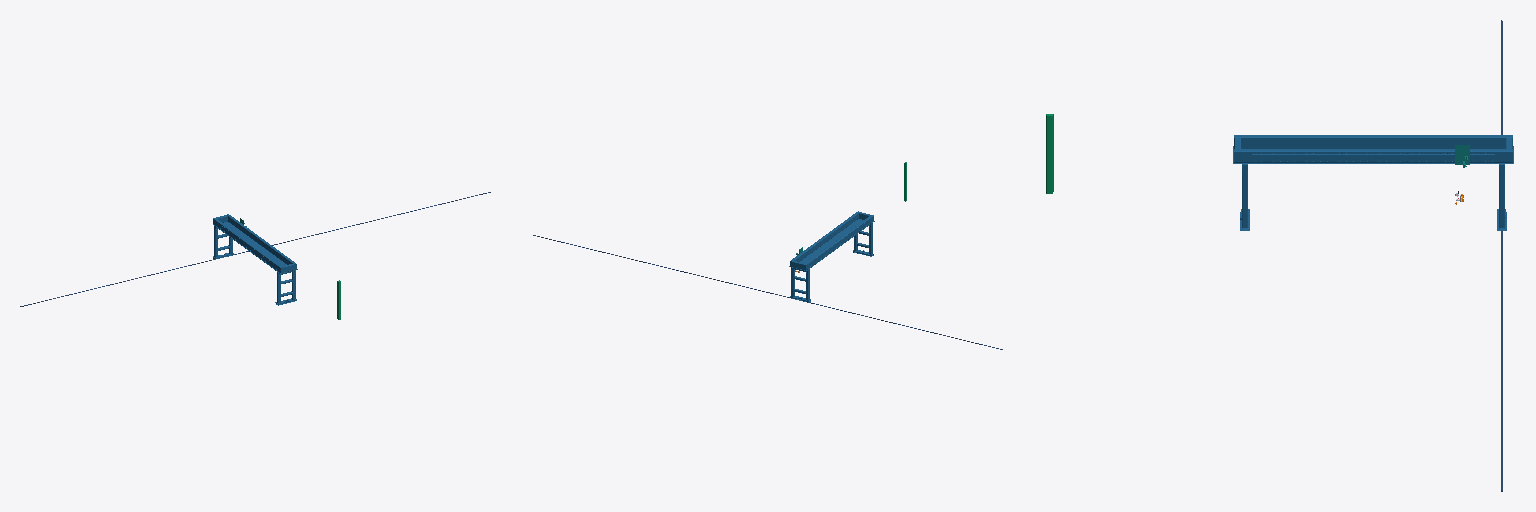
The robot description file, URDF, robot "9_axis":
<?xml version="1.0" encoding="utf-8"?>
<!-- This URDF was automatically created by SolidWorks to URDF Exporter! Originally created by Stephen Brawner (brawner@gmail.com) 
     Commit Version: 1.6.0-4-g7f85cfe  Build Version: 1.6.7995.38578
     For more information, please see http://wiki.ros.org/sw_urdf_exporter -->
<robot
  name="9_axis">
  <link
    name="base_link">
    <inertial>
      <origin
        xyz="0 0 0.189882215868279"
        rpy="0 0 0" />
      <mass
        value="139.592927487695" />
      <inertia
        ixx="0.0718448286204054"
        ixy="-0.00144581311013746"
        ixz="-0.000450491456620577"
        iyy="30495.9579404736"
        iyz="-1.37561240877077E-07"
        izz="30495.9613779575" />
    </inertial>
    <visual>
      <origin
        xyz="0 0 0"
        rpy="0 0 0" />
      <geometry>
        <mesh
          filename="package://9_axis/meshes/base_link.STL" />
      </geometry>
      <material
        name="gantry_base">
        <color
          rgba="0.22 0.33 0.47 1" />
      </material>
    </visual>
    <collision>
      <origin
        xyz="0 0 0"
        rpy="0 0 0" />
      <geometry>
        <mesh
          filename="package://9_axis/meshes/base_link.STL" />
      </geometry>
    </collision>
  </link>
  <link
    name="link_01">
    <inertial>
      <origin
        xyz="-11.170896628338 7.35022646647284 3.70138836356233"
        rpy="0 0 0" />
      <mass
        value="6671.43699211194" />
      <inertia
        ixx="71801.1150658574"
        ixy="-0.000275933137035324"
        ixz="-0.0221733289672927"
        iyy="743.223509157629"
        iyz="0.00397707975149331"
        izz="71976.645259892" />
    </inertial>
    <visual>
      <origin
        xyz="0 0 0"
        rpy="0 0 0" />
      <geometry>
        <mesh
          filename="package://9_axis/meshes/link_01.STL" />
      </geometry>
      <material
        name="gantry_x">
        <color
          rgba="0.18 0.45 0.62 1" />
      </material>
    </visual>
    <collision>
      <origin
        xyz="0 0 0"
        rpy="0 0 0" />
      <geometry>
        <mesh
          filename="package://9_axis/meshes/link_01.STL" />
      </geometry>
    </collision>
  </link>
  <joint
    name="pris01"
    type="prismatic">
    <origin
      xyz="0 0 0"
      rpy="0 0 0" />
    <parent
      link="base_link" />
    <child
      link="link_01" />
    <axis
      xyz="1 0 0" />
    <limit
      lower="0"
      upper="20"
      effort="1000"
      velocity="1" />
  </joint>
  <link
    name="link_02">
    <inertial>
      <origin
        xyz="-10.1182799564004 11.4807341899315 4.05525907141845"
        rpy="0 0 0" />
      <mass
        value="40.148559695801" />
      <inertia
        ixx="3.50908475657513"
        ixy="-0.000572217823650541"
        ixz="-0.00072569738282989"
        iyy="2.39803866900882"
        iyz="-1.15244160141528E-07"
        izz="1.20787043727926" />
    </inertial>
    <visual>
      <origin
        xyz="0 0 0"
        rpy="0 0 0" />
      <geometry>
        <mesh
          filename="package://9_axis/meshes/link_02.STL" />
      </geometry>
      <material
        name="gantry_y">
        <color
          rgba="0.12 0.55 0.55 1" />
      </material>
    </visual>
    <collision>
      <origin
        xyz="0 0 0"
        rpy="0 0 0" />
      <geometry>
        <mesh
          filename="package://9_axis/meshes/link_02.STL" />
      </geometry>
    </collision>
  </link>
  <joint
    name="pris02"
    type="prismatic">
    <origin
      xyz="0 0 0"
      rpy="0 0 0" />
    <parent
      link="link_01" />
    <child
      link="link_02" />
    <axis
      xyz="0 1 0" />
    <limit
      lower="-10"
      upper="2"
      effort="1000"
      velocity="1" />
  </joint>
  <link
    name="link_03">
    <inertial>
      <origin
        xyz="-10.0101635288307 11.2872845086796 4.31198477472196"
        rpy="0 0 0" />
      <mass
        value="241.92854140384" />
      <inertia
        ixx="324.34375572915"
        ixy="-4.45378052502678E-07"
        ixz="-8.02551938519573E-05"
        iyy="323.367190485032"
        iyz="2.88253358991836E-06"
        izz="2.53813839890082" />
    </inertial>
    <visual>
      <origin
        xyz="0 0 0"
        rpy="0 0 0" />
      <geometry>
        <mesh
          filename="package://9_axis/meshes/link_03.STL" />
      </geometry>
      <material
        name="gantry_z">
        <color
          rgba="0.08 0.62 0.42 1" />
      </material>
    </visual>
    <collision>
      <origin
        xyz="0 0 0"
        rpy="0 0 0" />
      <geometry>
        <mesh
          filename="package://9_axis/meshes/link_03.STL" />
      </geometry>
    </collision>
  </link>
  <joint
    name="pris03"
    type="prismatic">
    <origin
      xyz="0 0 0"
      rpy="0 0 0" />
    <parent
      link="link_02" />
    <child
      link="link_03" />
    <axis
      xyz="0 0 1" />
    <limit
      lower="0"
      upper="5"
      effort="1000"
      velocity="1" />
  </joint>
  <link
    name="robobase">
    <inertial>
      <origin
        xyz="0.00281411995995548 -0.000194531191696483 0.0195447591183241"
        rpy="0 0 0" />
      <mass
        value="0.526598652051908" />
      <inertia
        ixx="0.000629597562234121"
        ixy="-2.42038795119825E-08"
        ixz="3.21123416404004E-06"
        iyy="0.00086870537882105"
        iyz="2.45011996420414E-07"
        izz="0.00136278998388592" />
    </inertial>
    <visual>
      <origin
        xyz="0 0 0"
        rpy="0 0 0" />
      <geometry>
        <mesh
          filename="package://9_axis/meshes/robobase.STL" />
      </geometry>
      <material
        name="robot_base">
        <color
          rgba="0.20 0.20 0.22 1" />
      </material>
    </visual>
    <collision>
      <origin
        xyz="0 0 0"
        rpy="0 0 0" />
      <geometry>
        <mesh
          filename="package://9_axis/meshes/robobase.STL" />
      </geometry>
    </collision>
  </link>
  <joint
    name="robobase"
    type="fixed">
    <origin
      xyz="-10.008 11.286 2.3119"
      rpy="-3.1415 0 0" />
    <parent
      link="link_03" />
    <child
      link="robobase" />
    <axis
      xyz="0 0 0" />
  </joint>
  <link
    name="link04">
    <inertial>
      <origin
        xyz="-2.51857531862945E-07 0.00332256500839039 -0.00150902460016494"
        rpy="0 0 0" />
      <mass
        value="15.1346479444998" />
      <inertia
        ixx="0.0443031651788231"
        ixy="-2.81167524079918E-08"
        ixz="-4.0596826899028E-07"
        iyy="0.0430901762109995"
        iyz="1.43719449704964E-05"
        izz="0.0305221713846399" />
    </inertial>
    <visual>
      <origin
        xyz="0 0 0"
        rpy="0 0 0" />
      <geometry>
        <mesh
          filename="package://9_axis/meshes/link04.STL" />
      </geometry>
      <material
        name="arm_link">
        <color
          rgba="0.88 0.90 0.95 1" />
      </material>
    </visual>
    <collision>
      <origin
        xyz="0 0 0"
        rpy="0 0 0" />
      <geometry>
        <mesh
          filename="package://9_axis/meshes/link04.STL" />
      </geometry>
    </collision>
  </link>
  <joint
    name="revo04"
    type="revolute">
    <origin
      xyz="0 -0.00022535 0.12015"
      rpy="0 0 0" />
    <parent
      link="robobase" />
    <child
      link="link04" />
    <axis
      xyz="0 0 -1" />
    <limit
      lower="-6.2832"
      upper="6.2832"
      effort="200"
      velocity="3.14" />
  </joint>
  <link
    name="link05">
    <inertial>
      <origin
        xyz="0.215000100287162 6.43173034275968E-09 -0.143146610069182"
        rpy="0 0 0" />
      <mass
        value="45.8465918633366" />
      <inertia
        ixx="0.1037483140575"
        ixy="-5.87095025929926E-08"
        ixz="2.54282490391606E-07"
        iyy="0.240121009336192"
        iyz="2.15483178508248E-08"
        izz="0.212572501503178" />
    </inertial>
    <visual>
      <origin
        xyz="0 0 0"
        rpy="0 0 0" />
      <geometry>
        <mesh
          filename="package://9_axis/meshes/link05.STL" />
      </geometry>
      <material
        name="arm_joint">
        <color
          rgba="0.95 0.55 0.10 1" />
      </material>
    </visual>
    <collision>
      <origin
        xyz="0 0 0"
        rpy="0 0 0" />
      <geometry>
        <mesh
          filename="package://9_axis/meshes/link05.STL" />
      </geometry>
    </collision>
  </link>
  <joint
    name="revo05"
    type="revolute">
    <origin
      xyz="0 0 0"
      rpy="1.5708 0 0" />
    <parent
      link="link04" />
    <child
      link="link05" />
    <axis
      xyz="0 0 1" />
    <limit
      lower="-6.2832"
      upper="6.2832"
      effort="200"
      velocity="3.14" />
  </joint>
  <link
    name="link06">
    <inertial>
      <origin
        xyz="0.190735496583493 -1.52687675682717E-05 -0.0106365862195608"
        rpy="0 0 0" />
      <mass
        value="18.0534564554839" />
      <inertia
        ixx="0.0197914204709761"
        ixy="6.48612971204404E-07"
        ixz="-0.0162800799758652"
        iyy="0.168630223367361"
        iyz="3.37641397447918E-07"
        izz="0.16527336838242" />
    </inertial>
    <visual>
      <origin
        xyz="0 0 0"
        rpy="0 0 0" />
      <geometry>
        <mesh
          filename="package://9_axis/meshes/link06.STL" />
      </geometry>
      <material
        name="arm_link2">
        <color
          rgba="0.88 0.90 0.95 1" />
      </material>
    </visual>
    <collision>
      <origin
        xyz="0 0 0"
        rpy="0 0 0" />
      <geometry>
        <mesh
          filename="package://9_axis/meshes/link06.STL" />
      </geometry>
    </collision>
  </link>
  <joint
    name="revo06"
    type="revolute">
    <origin
      xyz="0.43 0 0"
      rpy="0 0 0" />
    <parent
      link="link05" />
    <child
      link="link06" />
    <axis
      xyz="0 0 1" />
    <limit
      lower="-6.2832"
      upper="6.2832"
      effort="200"
      velocity="3.14" />
  </joint>
  <link
    name="link07">
    <inertial>
      <origin
        xyz="-1.98734804579548E-06 -0.00595118756440464 0.00267886074216196"
        rpy="0 0 0" />
      <mass
        value="5.53782702890545" />
      <inertia
        ixx="0.00708415707773477"
        ixy="1.83211236329591E-07"
        ixz="-2.36169851115656E-08"
        iyy="0.00516123063669001"
        iyz="-0.000397739879929697"
        izz="0.00684324625577803" />
    </inertial>
    <visual>
      <origin
        xyz="0 0 0"
        rpy="0 0 0" />
      <geometry>
        <mesh
          filename="package://9_axis/meshes/link07.STL" />
      </geometry>
      <material
        name="arm_joint2">
        <color
          rgba="0.95 0.55 0.10 1" />
      </material>
    </visual>
    <collision>
      <origin
        xyz="0 0 0"
        rpy="0 0 0" />
      <geometry>
        <mesh
          filename="package://9_axis/meshes/link07.STL" />
      </geometry>
    </collision>
  </link>
  <joint
    name="revo07"
    type="revolute">
    <origin
      xyz="0.3685 -1.185E-05 -0.114"
      rpy="0 0 0" />
    <parent
      link="link06" />
    <child
      link="link07" />
    <axis
      xyz="0 0 -1" />
    <limit
      lower="-6.2832"
      upper="6.2832"
      effort="200"
      velocity="3.14" />
  </joint>
  <link
    name="link08">
    <inertial>
      <origin
        xyz="-1.90944871258925E-06 -0.00288907759425719 -0.00234237394169147"
        rpy="0 0 0" />
      <mass
        value="6.33394466548073" />
      <inertia
        ixx="0.012920396120737"
        ixy="-1.08659585912681E-07"
        ixz="5.89055788634786E-09"
        iyy="0.00584529345673904"
        iyz="4.29603782509824E-05"
        izz="0.0126275585433332" />
    </inertial>
    <visual>
      <origin
        xyz="0 0 0"
        rpy="0 0 0" />
      <geometry>
        <mesh
          filename="package://9_axis/meshes/link08.STL" />
      </geometry>
      <material
        name="arm_link3">
        <color
          rgba="0.88 0.90 0.95 1" />
      </material>
    </visual>
    <collision>
      <origin
        xyz="0 0 0"
        rpy="0 0 0" />
      <geometry>
        <mesh
          filename="package://9_axis/meshes/link08.STL" />
      </geometry>
    </collision>
  </link>
  <joint
    name="revo08"
    type="revolute">
    <origin
      xyz="0 -0.1135 0"
      rpy="1.5708 0 0" />
    <parent
      link="link07" />
    <child
      link="link08" />
    <axis
      xyz="0 0 1" />
    <limit
      lower="-6.2832"
      upper="6.2832"
      effort="200"
      velocity="3.14" />
  </joint>
  <link
    name="link09">
    <inertial>
      <origin
        xyz="2.76523161145681E-05 -1.34854737601593E-05 -0.021245060068734"
        rpy="0 0 0" />
      <mass
        value="1.41689125820954" />
      <inertia
        ixx="0.000713704897956401"
        ixy="-6.91164349011104E-07"
        ixz="-6.36734535409925E-07"
        iyy="0.000723626940396581"
        iyz="1.5890038073838E-06"
        izz="0.00112895600939514" />
    </inertial>
    <visual>
      <origin
        xyz="0 0 0"
        rpy="0 0 0" />
      <geometry>
        <mesh
          filename="package://9_axis/meshes/link09.STL" />
      </geometry>
      <material
        name="arm_ee">
        <color
          rgba="0.85 0.20 0.15 1" />
      </material>
    </visual>
    <collision>
      <origin
        xyz="0 0 0"
        rpy="0 0 0" />
      <geometry>
        <mesh
          filename="package://9_axis/meshes/link09.STL" />
      </geometry>
    </collision>
  </link>
  <joint
    name="revo09"
    type="revolute">
    <origin
      xyz="0 0.107 0"
      rpy="-1.5708 0 0" />
    <parent
      link="link08" />
    <child
      link="link09" />
    <axis
      xyz="0 0 1" />
    <limit
      lower="-6.2832"
      upper="6.2832"
      effort="200"
      velocity="3.14" />
  </joint>
</robot>

--- What the picture shows (computed from the rendered views, not written in the file) ---
Views: 3 orthographic renders of the robot side by side, from view 1: azimuth 30°, elevation 25°; view 2: azimuth 150°, elevation 25°; view 3: azimuth 270°, elevation 25°.
Model 9_axis with 11 links and 10 joints (6 revolute, 3 prismatic, 1 fixed), rooted at base_link, posed every joint at zero.
Visible links, largest first — view 1: link_01; view 2: link_01; view 3: link_01, base_link, link_03.
Link boxes in pixels (box(x1,y1,x2,y2)): link_01: box(213, 214, 297, 305); link_01: box(789, 211, 874, 302); link_01: box(1233, 135, 1513, 230); base_link: box(1501, 20, 1502, 491); link_03: box(1046, 114, 1053, 193).
Size in the robot's own frame: 51.2 by 21.51 by 5.82 metres.
Meshes: 11 distinct files referenced, 11 mesh visuals loaded (11 binary STL).
